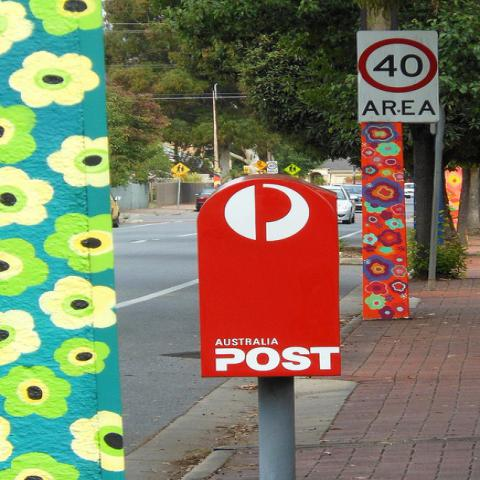car: (316, 185, 358, 225), (342, 184, 364, 212), (195, 187, 218, 212), (110, 192, 119, 220), (404, 182, 414, 199)
